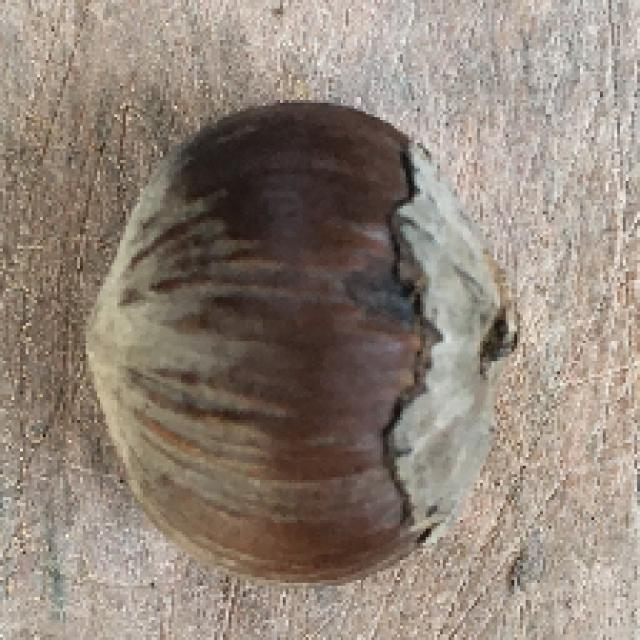damagedHazelnut: (81, 96, 513, 580)
